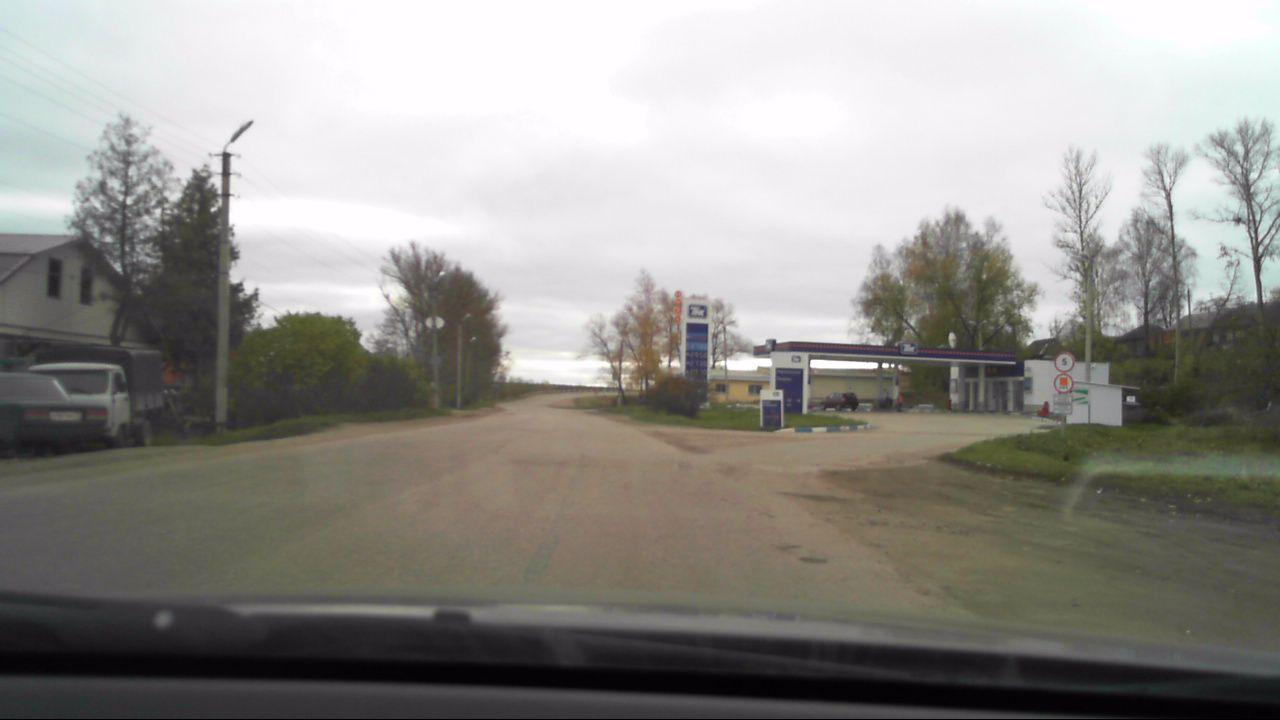3_24: (1056, 351, 1075, 374)
3_32: (1053, 375, 1074, 393)
